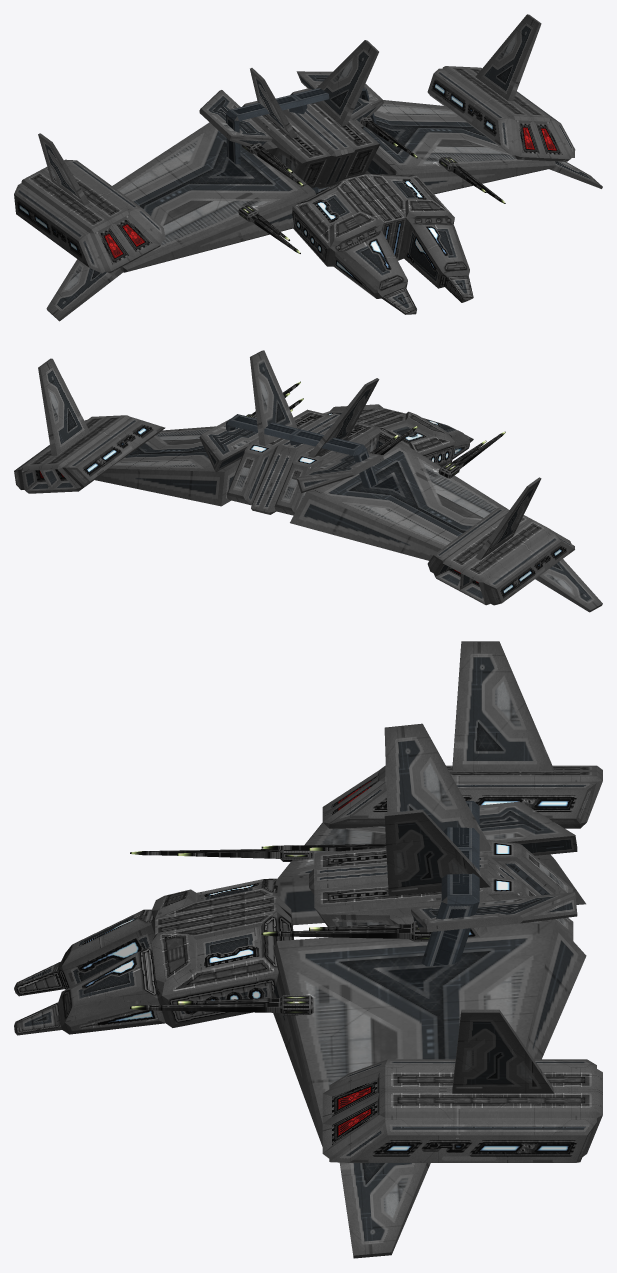
File: zarykorStarship04.FBX
3 renders of one model, top to bottom at view 1: azimuth 30°, elevation 25°; view 2: azimuth 150°, elevation 25°; view 3: azimuth 270°, elevation 25°, orthographic. The views are drawn at different scales.
Visible parts, largest first — view 1: ZarykorStarship04; view 2: ZarykorStarship04; view 3: ZarykorStarship04.
Part boxes in pixels (x1,y1,x2,y2): ZarykorStarship04: (14,14,602,321); ZarykorStarship04: (14,350,602,612); ZarykorStarship04: (14,641,602,1258).
Size of the model in its own units: 2.25 by 1.36 by 0.7305.
